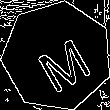M_NW: (24, 22, 90, 90)
